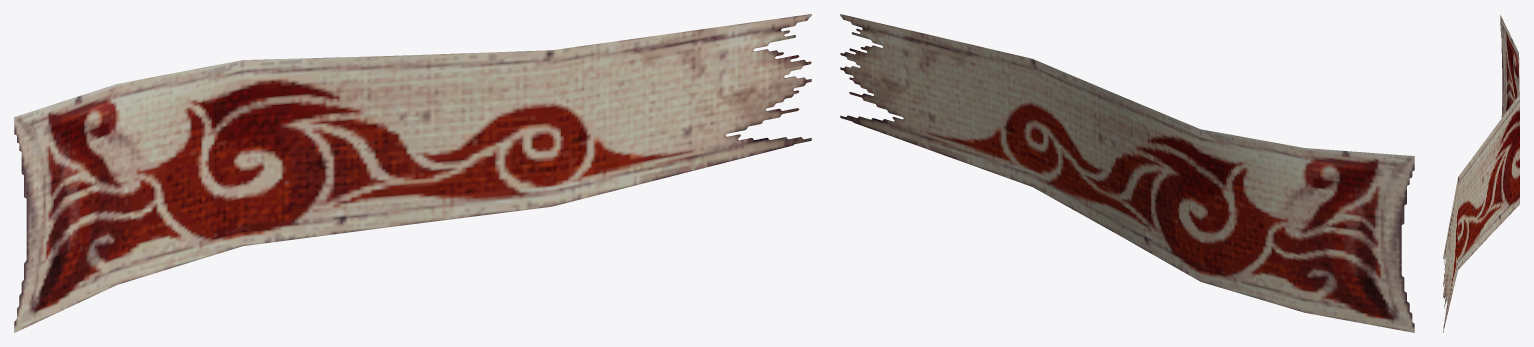
File: Flag3.obj
The picture shows the model from 3 angles, left to right: view 1: azimuth 30°, elevation 25°; view 2: azimuth 150°, elevation 25°; view 3: azimuth 270°, elevation 25°; orthographic projection. The views are drawn at different scales.
Size of the model in its own units: 119 by 32.87 by 17.83.
1 material, 1 textured.
